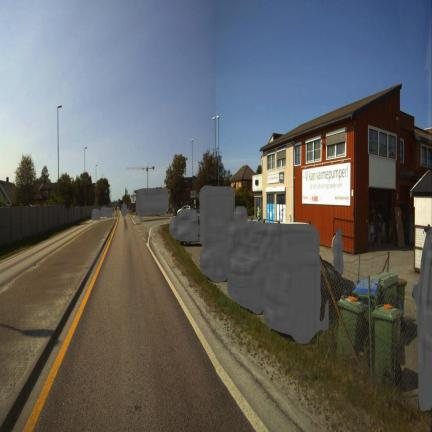Road: (36, 218, 252, 430)
